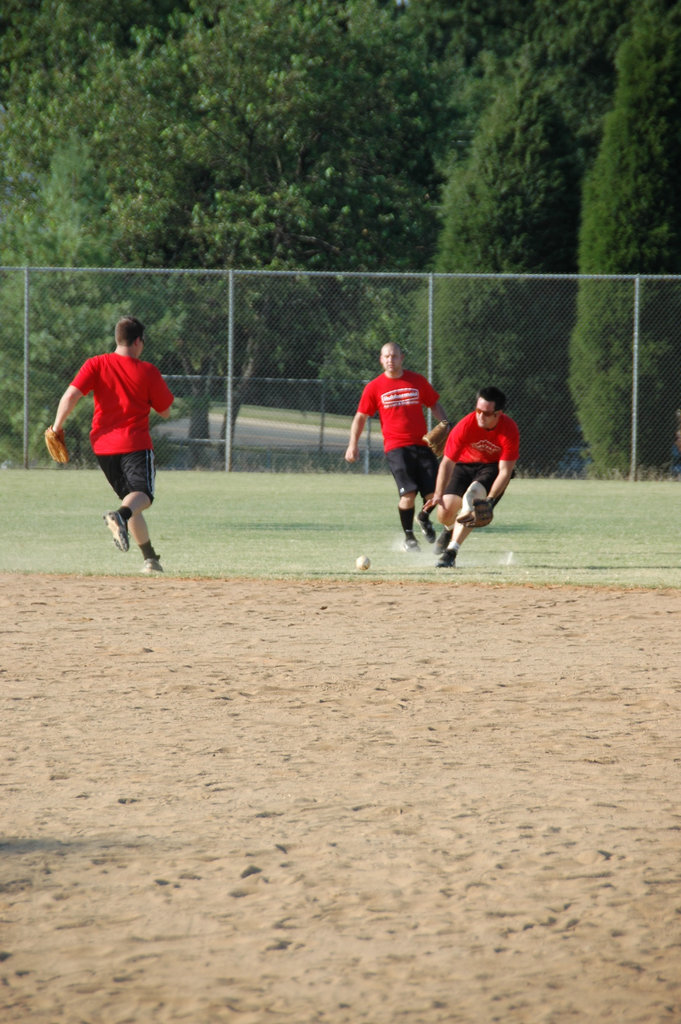Ball: (354, 554, 372, 572)
